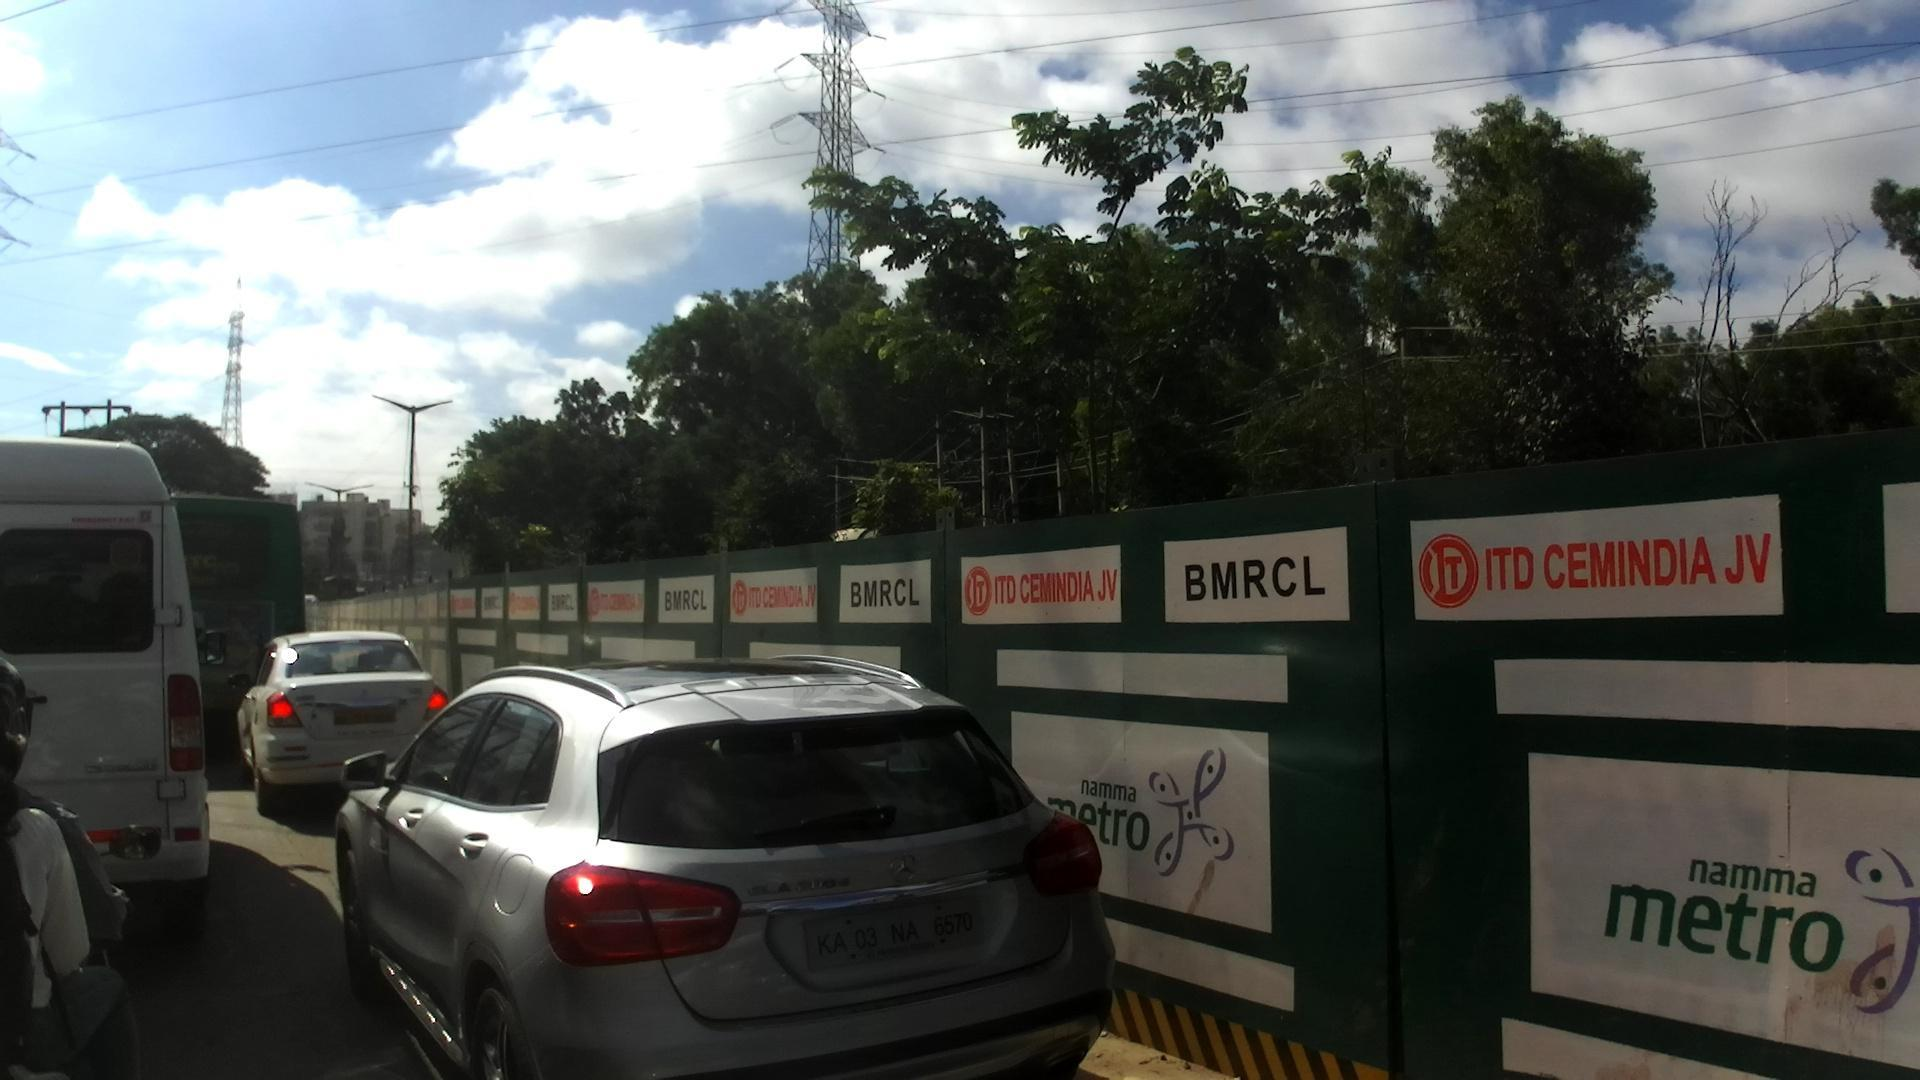off: (0, 0, 1920, 1080), (150, 0, 207, 26)
